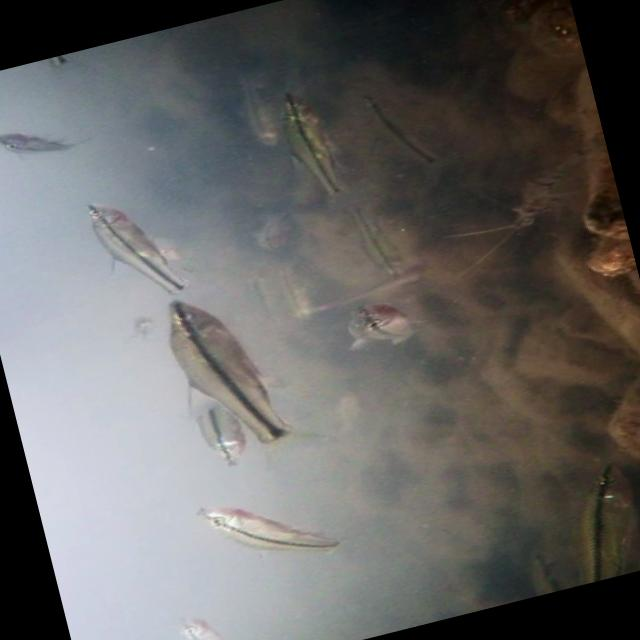Cakil Baligi: (142, 278, 316, 472), (75, 182, 203, 318), (192, 475, 348, 583), (264, 83, 362, 211), (327, 290, 432, 364)
